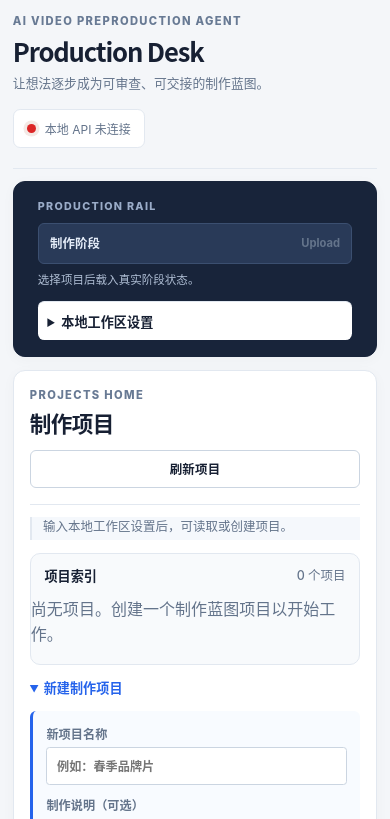
Test: FoundationStatus › exposes a collapsed mobile stage-rail control
Click the button with aria-label "制作阶段导航，展开".
click(75, 244)  # box [38,223,352,264]
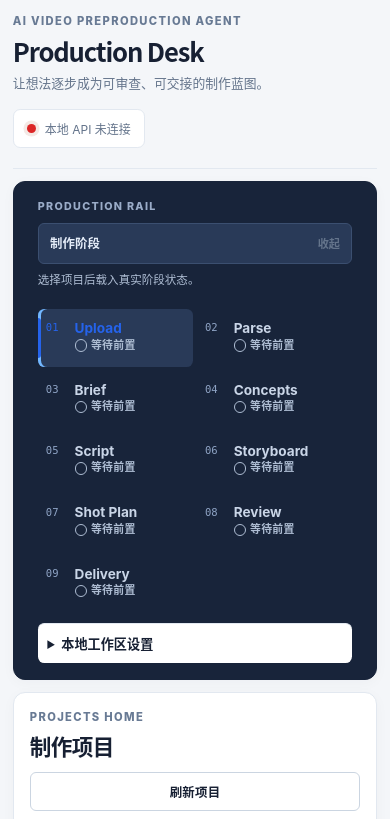
Result: the button named "制作阶段导航，展开" is expanded at [38,223,352,264]
Click the button "01 Upload 等待前置".
click(115, 338)  # box [38,309,193,367]
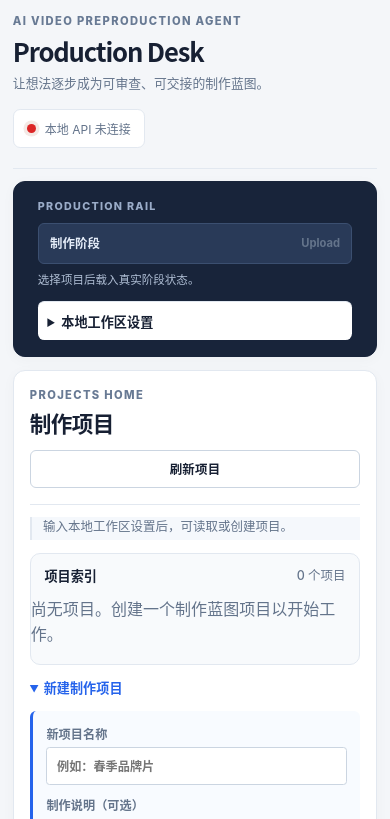
Result: the button with aria-label "制作阶段导航，展开" is collapsed at [38,223,352,264]
